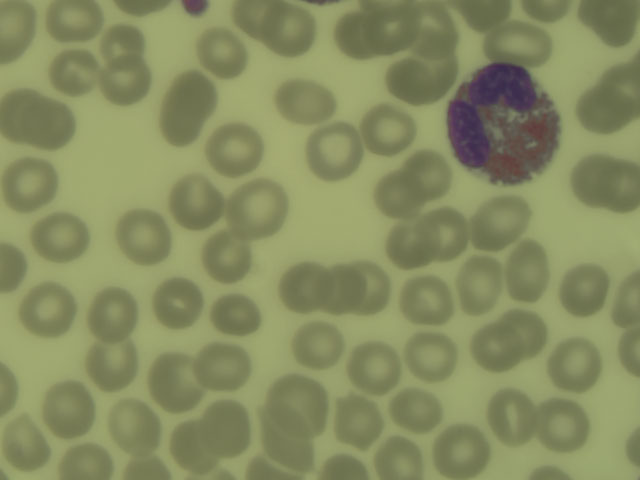RBC: (225, 180, 288, 237), (197, 228, 259, 283), (270, 378, 329, 431), (116, 208, 168, 266), (257, 413, 316, 464), (173, 172, 224, 230), (151, 354, 203, 410), (550, 340, 604, 393), (360, 107, 419, 155), (85, 340, 142, 389), (576, 82, 628, 135), (538, 397, 592, 448), (196, 344, 254, 390), (487, 24, 552, 65), (390, 53, 449, 98), (208, 124, 260, 175), (437, 426, 489, 477), (421, 207, 470, 261), (273, 80, 337, 121), (308, 126, 359, 177), (27, 283, 77, 335), (35, 213, 90, 260), (2, 159, 58, 205), (471, 195, 522, 245), (508, 242, 551, 301), (461, 259, 505, 316), (270, 6, 319, 57), (3, 418, 51, 470), (581, 3, 640, 45), (154, 280, 203, 330), (376, 168, 424, 219), (291, 322, 343, 369), (352, 341, 398, 394), (160, 90, 205, 143), (351, 258, 391, 317), (112, 403, 161, 451), (335, 396, 382, 446), (92, 287, 138, 338), (404, 278, 455, 324), (27, 101, 76, 148), (50, 384, 97, 433), (203, 404, 252, 451), (280, 260, 327, 309), (230, 2, 287, 42), (503, 306, 549, 355), (211, 294, 262, 338), (362, 13, 415, 55), (470, 326, 521, 369), (561, 264, 604, 315), (49, 1, 105, 40), (173, 418, 216, 468), (59, 441, 114, 480), (378, 432, 422, 480), (199, 31, 246, 75), (572, 158, 619, 202), (402, 153, 450, 196), (392, 387, 440, 430), (490, 393, 532, 442), (104, 60, 150, 104), (386, 220, 432, 264), (408, 336, 454, 380), (411, 10, 458, 53), (1, 1, 37, 56), (1, 88, 37, 142), (172, 71, 220, 110), (53, 52, 98, 91), (606, 164, 640, 214), (319, 268, 359, 310), (122, 449, 172, 480), (605, 66, 640, 110), (107, 22, 145, 62), (335, 18, 370, 59), (1, 242, 27, 297), (614, 270, 640, 322), (324, 451, 367, 480), (465, 2, 516, 26), (622, 325, 640, 384), (1, 363, 19, 416), (524, 2, 572, 21), (367, 1, 420, 16)
WBC: (449, 65, 564, 180)
